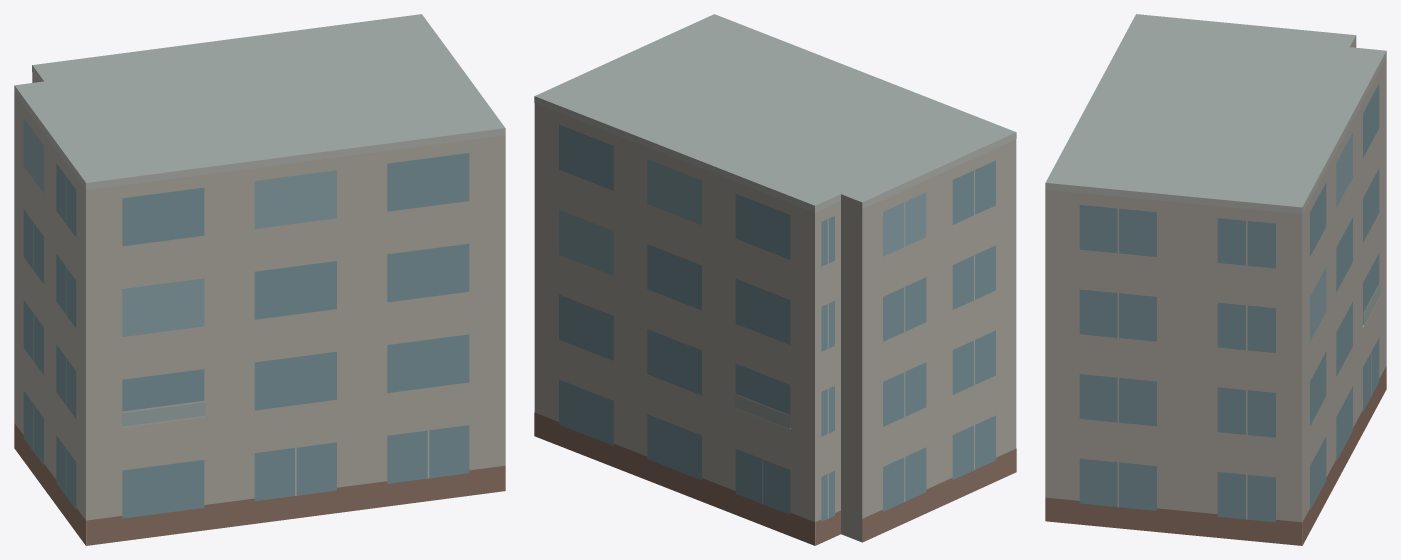
Rendered from residential-2a5b7830-e2f4-4a62-bfaf-25159125cb78.glb.
3 renders of one model, left to right at view 1: azimuth 30°, elevation 25°; view 2: azimuth 150°, elevation 25°; view 3: azimuth 270°, elevation 25°, orthographic. The views are drawn at different scales.
Visible parts, largest first — view 1: residential-2a5b7830-e2f4-4a62-bfaf-25159125cb78.tmp; view 2: residential-2a5b7830-e2f4-4a62-bfaf-25159125cb78.tmp; view 3: residential-2a5b7830-e2f4-4a62-bfaf-25159125cb78.tmp.
Boxes of the visible parts, x1,y1,x2,y2 form: residential-2a5b7830-e2f4-4a62-bfaf-25159125cb78.tmp: (14,14,505,545); residential-2a5b7830-e2f4-4a62-bfaf-25159125cb78.tmp: (534,14,1016,545); residential-2a5b7830-e2f4-4a62-bfaf-25159125cb78.tmp: (1045,14,1386,545).
Size of the model in its own units: 14.96 by 12.2 by 11.15.
